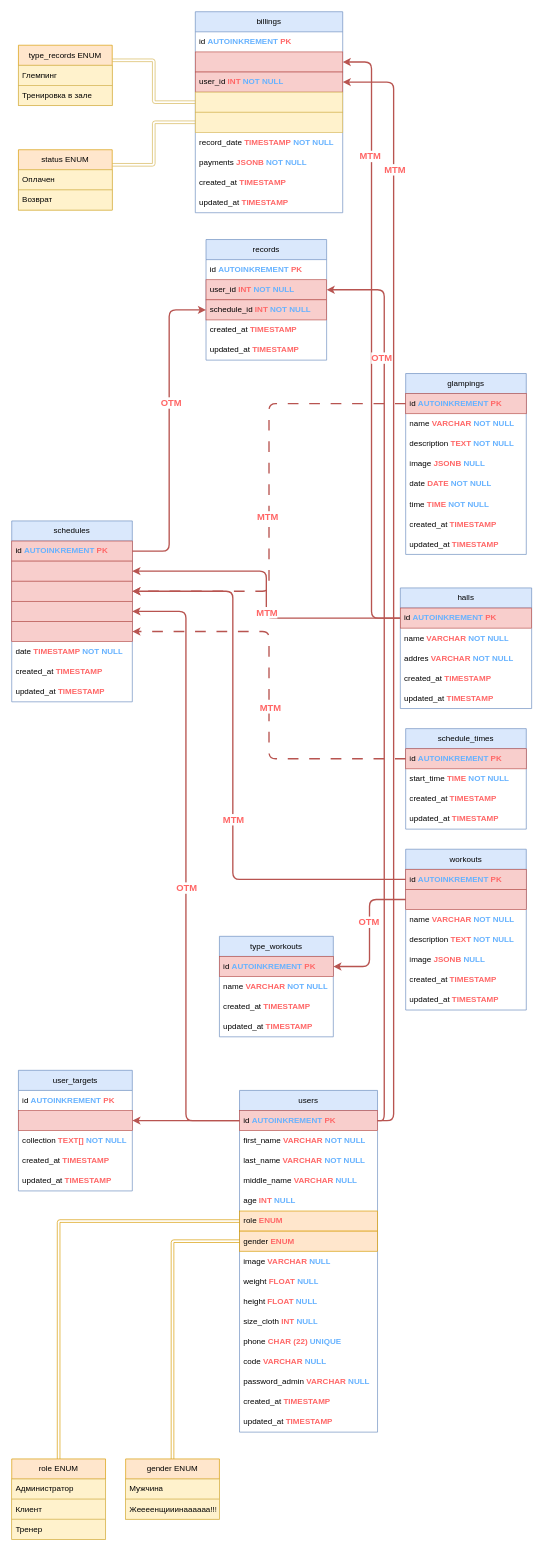
Image size: 543x1551. Some labels were removed from this diagram. Each missing label, with the centre of its shape:
"couch_id INT FK" goes at (x=71, y=611).
"hall_id INT FK" goes at (x=71, y=570).
"hall_id INT NOT NULL" goes at (x=269, y=61).
"schedule_time_id INT FK" goes at (x=71, y=631).
"status ENUM NOT NULL" goes at (x=269, y=122).
"type_record ENUM NOT NULL" goes at (x=269, y=101).
"type_workout_id INT FK" goes at (x=465, y=899).
"user_id INT FK" goes at (x=75, y=1120).
"workout_id INT FK" goes at (x=71, y=591).
